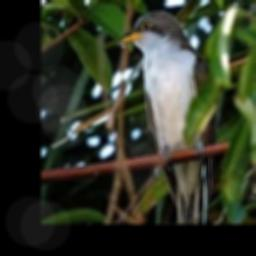Cuckoo: (119, 11, 216, 224)
